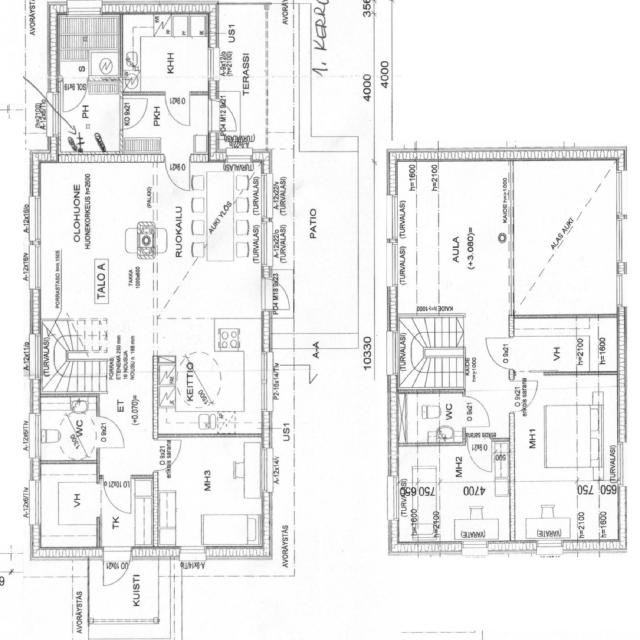door: (93, 414, 128, 452), (101, 477, 134, 517), (261, 276, 293, 317), (102, 545, 132, 588), (120, 92, 150, 132), (212, 96, 242, 136), (466, 434, 493, 475), (462, 394, 492, 430), (484, 335, 514, 371), (163, 154, 191, 192), (156, 434, 183, 473), (164, 90, 191, 128), (60, 82, 88, 114), (520, 378, 540, 412)
window: (257, 348, 275, 418), (383, 238, 400, 292), (28, 190, 44, 247), (383, 190, 400, 243), (612, 214, 628, 268), (258, 441, 273, 498), (29, 240, 44, 296), (612, 166, 628, 218), (386, 472, 400, 526), (259, 218, 273, 271), (385, 326, 399, 378), (31, 478, 44, 530), (30, 330, 43, 381), (614, 270, 629, 312), (66, 1, 102, 18), (30, 410, 42, 461), (260, 170, 272, 221), (533, 537, 564, 556), (461, 538, 490, 558), (50, 96, 62, 139), (205, 43, 218, 82), (0, 102, 10, 116)
zone: (154, 154, 266, 436), (36, 159, 154, 390), (397, 161, 514, 390), (510, 154, 620, 319), (157, 434, 266, 550), (516, 378, 616, 484), (120, 8, 210, 92), (514, 480, 621, 542), (510, 316, 618, 376), (36, 460, 101, 552), (437, 470, 513, 542), (58, 86, 122, 157), (58, 12, 120, 82), (396, 445, 439, 545), (38, 394, 100, 463), (398, 390, 466, 446), (1, 1, 27, 108)
